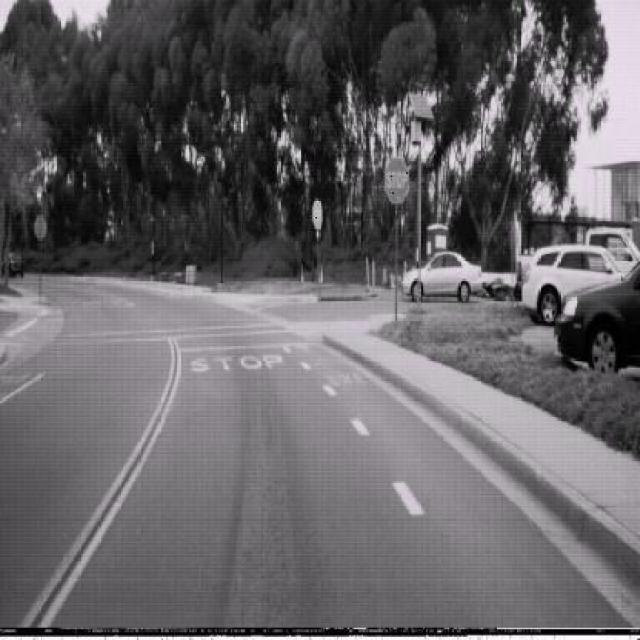stop: (385, 155, 409, 205), (310, 197, 322, 232)
